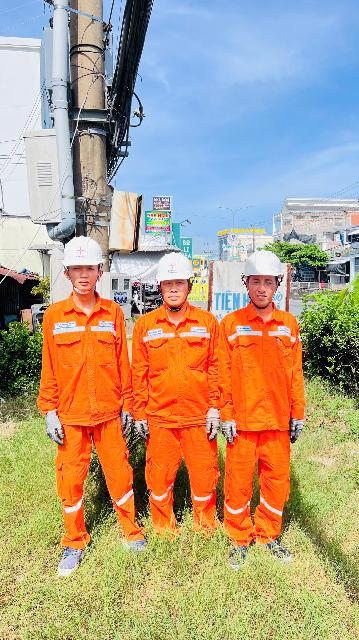gloves: (39, 409, 68, 449), (126, 410, 157, 444), (285, 409, 312, 441), (204, 405, 222, 445), (221, 414, 243, 445), (115, 410, 134, 436)
helmet: (236, 244, 293, 283), (57, 234, 109, 273), (152, 252, 194, 286)
shoes: (46, 543, 87, 587), (254, 525, 295, 566), (121, 526, 151, 557), (224, 538, 246, 572)
